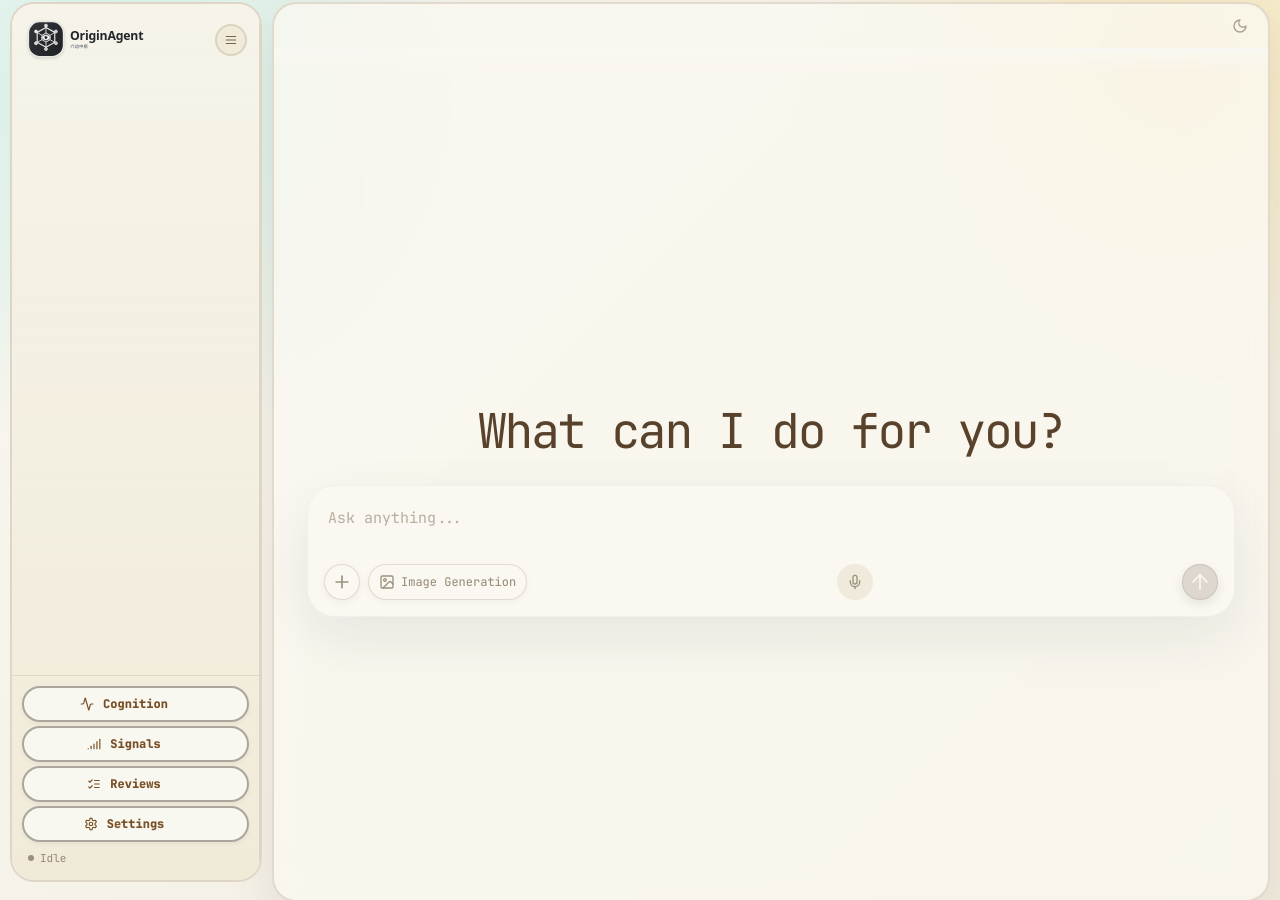
Test case: App layout › shows a specific error when the provider does not expose a compatible models endpoint
This screenshot has width=1280, height=900.
Click the button "Settings".
click(136, 824)  # box [22, 806, 249, 842]
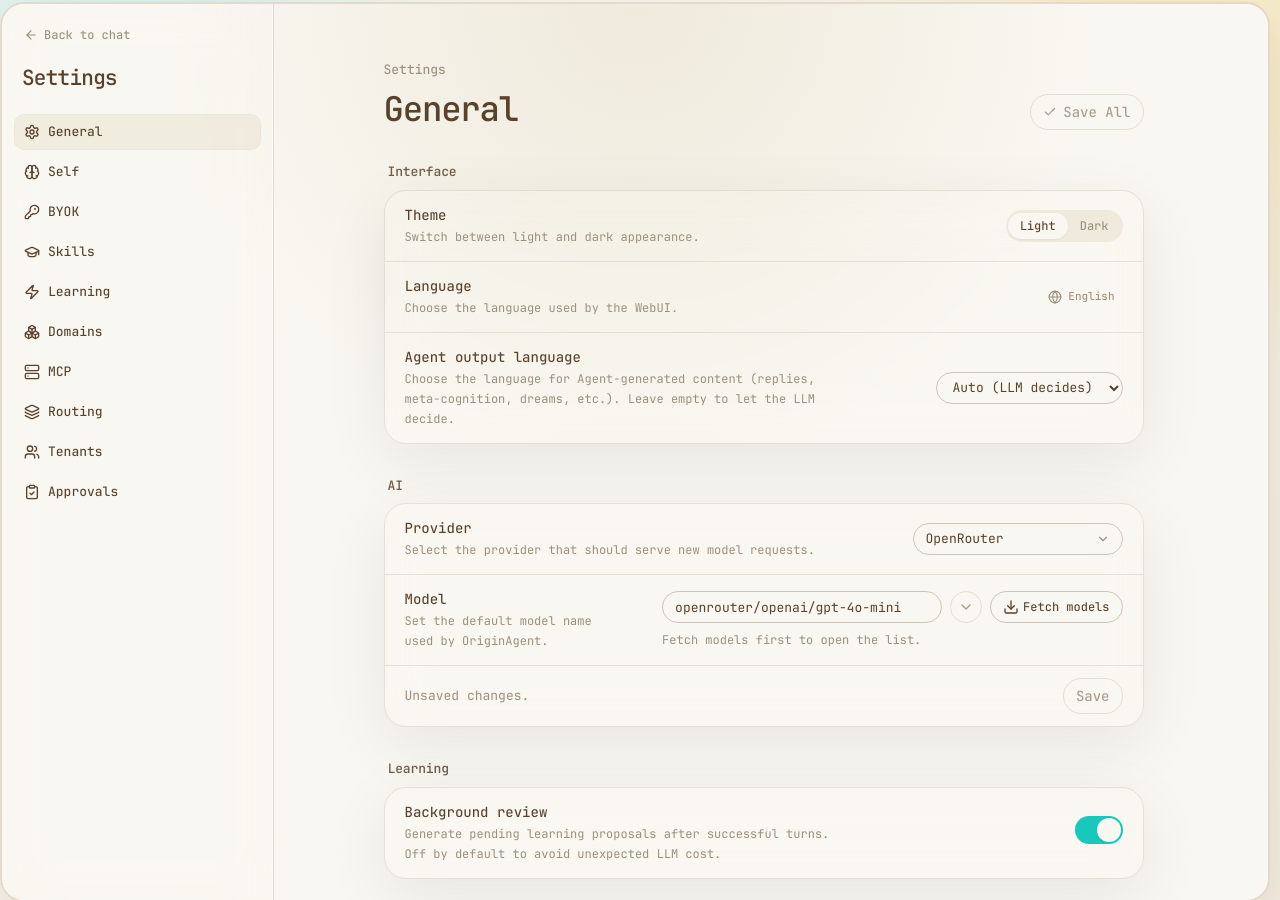
Expected: the heading "General" is shown, [384, 88, 518, 130]
Click the button "Fetch models".
click(1056, 607)  # box [990, 591, 1122, 623]
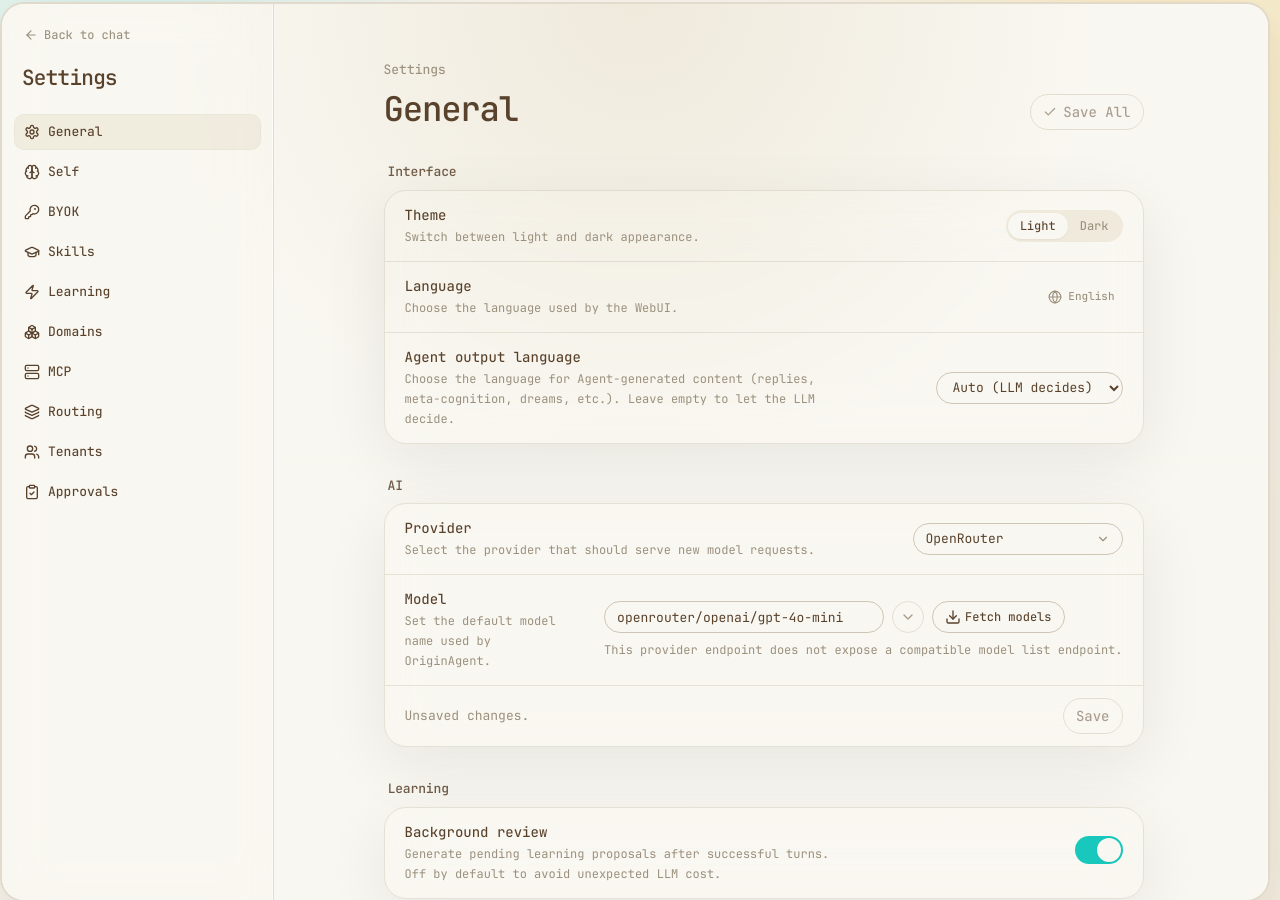
Expected: the text "This provider endpoint does not expose a compatible model list endpoint." is shown, [604, 641, 1122, 659]
